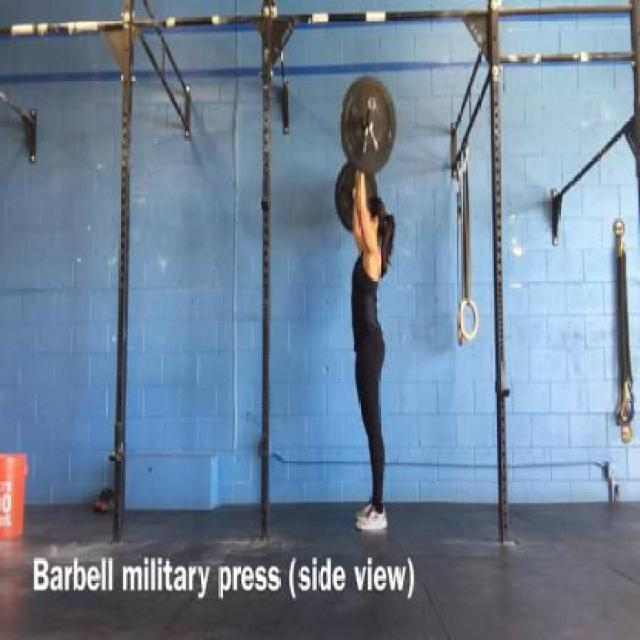Barbell: (356, 87, 381, 136)
